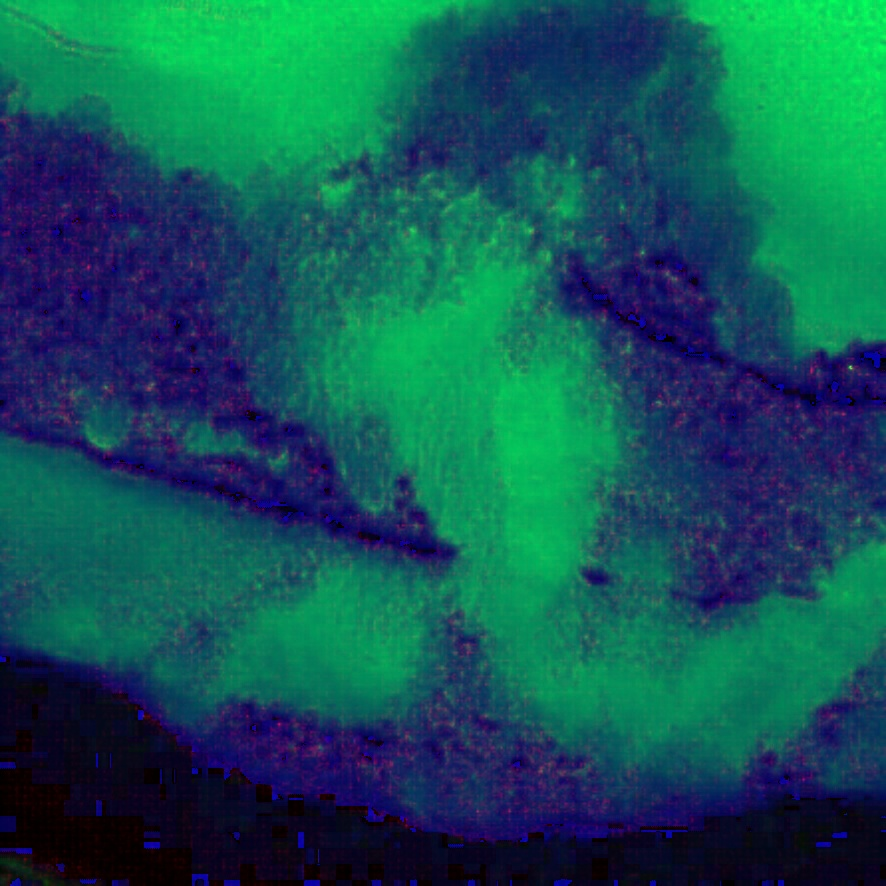rip_current: (244, 15, 693, 713)
